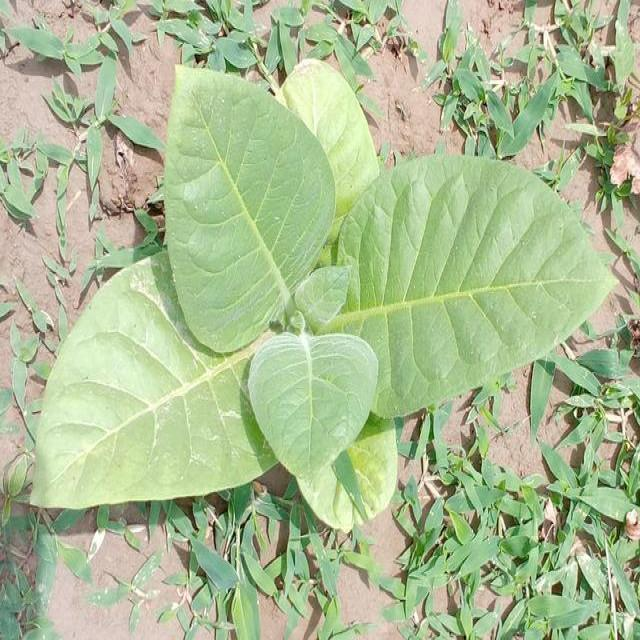crop: (28, 70, 617, 534)
